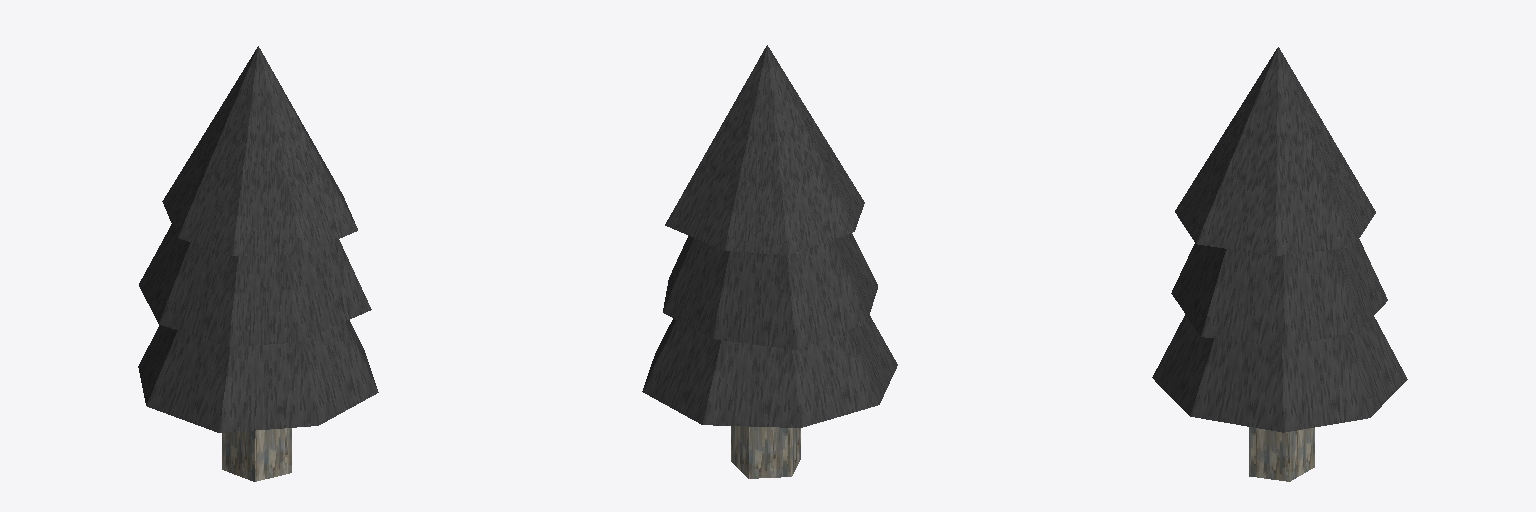
The picture shows the model from 3 angles: view 1: azimuth 30°, elevation 25°; view 2: azimuth 150°, elevation 25°; view 3: azimuth 270°, elevation 25°; orthographic projection.
Visible parts, largest first — view 1: pine_tree_1; view 2: pine_tree_1; view 3: pine_tree_1.
Part boxes in pixels (bbox=[...]): pine_tree_1: bbox=[138, 46, 378, 481]; pine_tree_1: bbox=[642, 45, 897, 478]; pine_tree_1: bbox=[1152, 47, 1407, 481].
Size of the model in its own units: 2.53 by 4.59 by 2.53.
Materials: 2 (2 with a texture image).